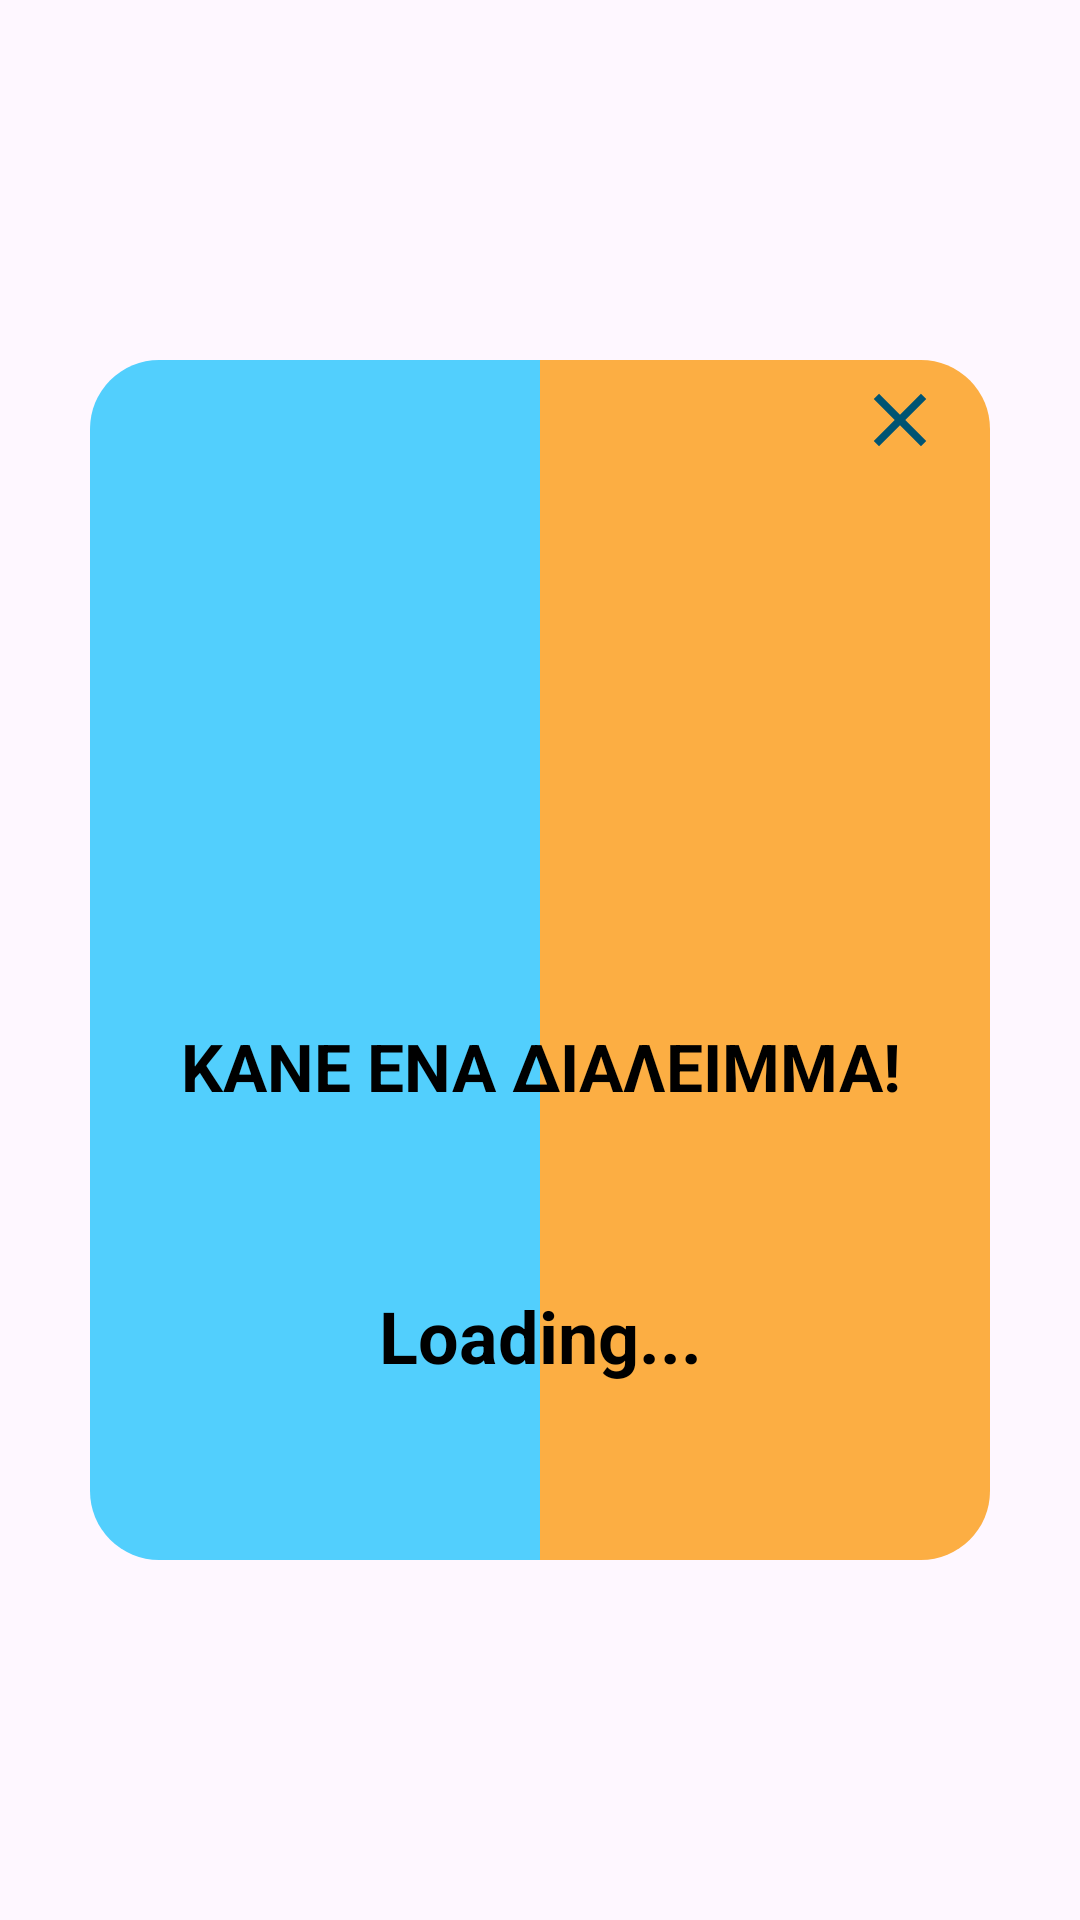

Named icons in this screenshot (1080px×1920px) and their centers, (x,y):
close: (900,420)
